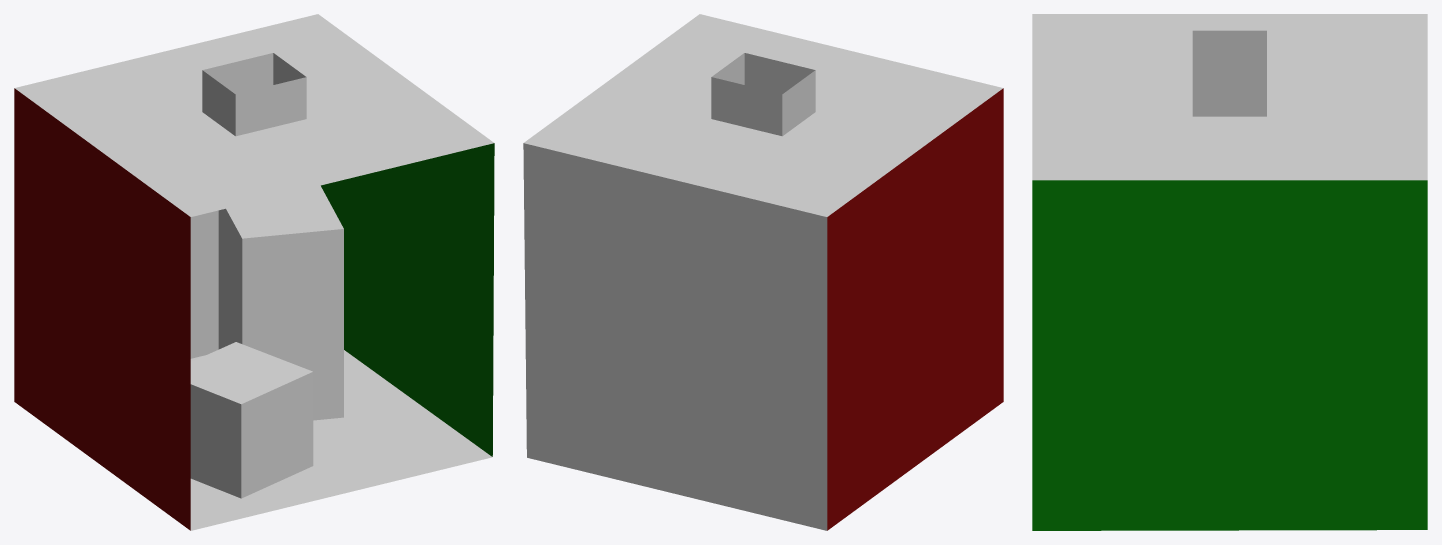
Rendered from cornellbox1.DAE.
3 views of the same model, side by side, from view 1: azimuth 30°, elevation 25°; view 2: azimuth 150°, elevation 25°; view 3: azimuth 270°, elevation 25° (orthographic). The views are drawn at different scales.
Parts seen in each view (by area): view 1: object2, object4, object3, object5, Box001; view 2: object2, object4; view 3: object3, object2.
Part boxes in pixels (bbox=[...]): object2: bbox=[14, 14, 493, 530]; object4: bbox=[14, 88, 190, 530]; object3: bbox=[321, 143, 494, 456]; object5: bbox=[218, 185, 343, 420]; Box001: bbox=[190, 342, 313, 498]; object2: bbox=[523, 14, 1003, 530]; object4: bbox=[827, 88, 1003, 530]; object3: bbox=[1032, 180, 1427, 530]; object2: bbox=[1032, 14, 1427, 180].
Bounding box in the file's own units: 556 × 559 × 622.
